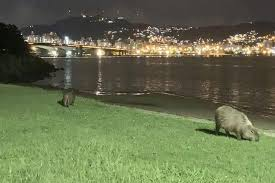capivara: (214, 105, 260, 144), (61, 89, 77, 109)
